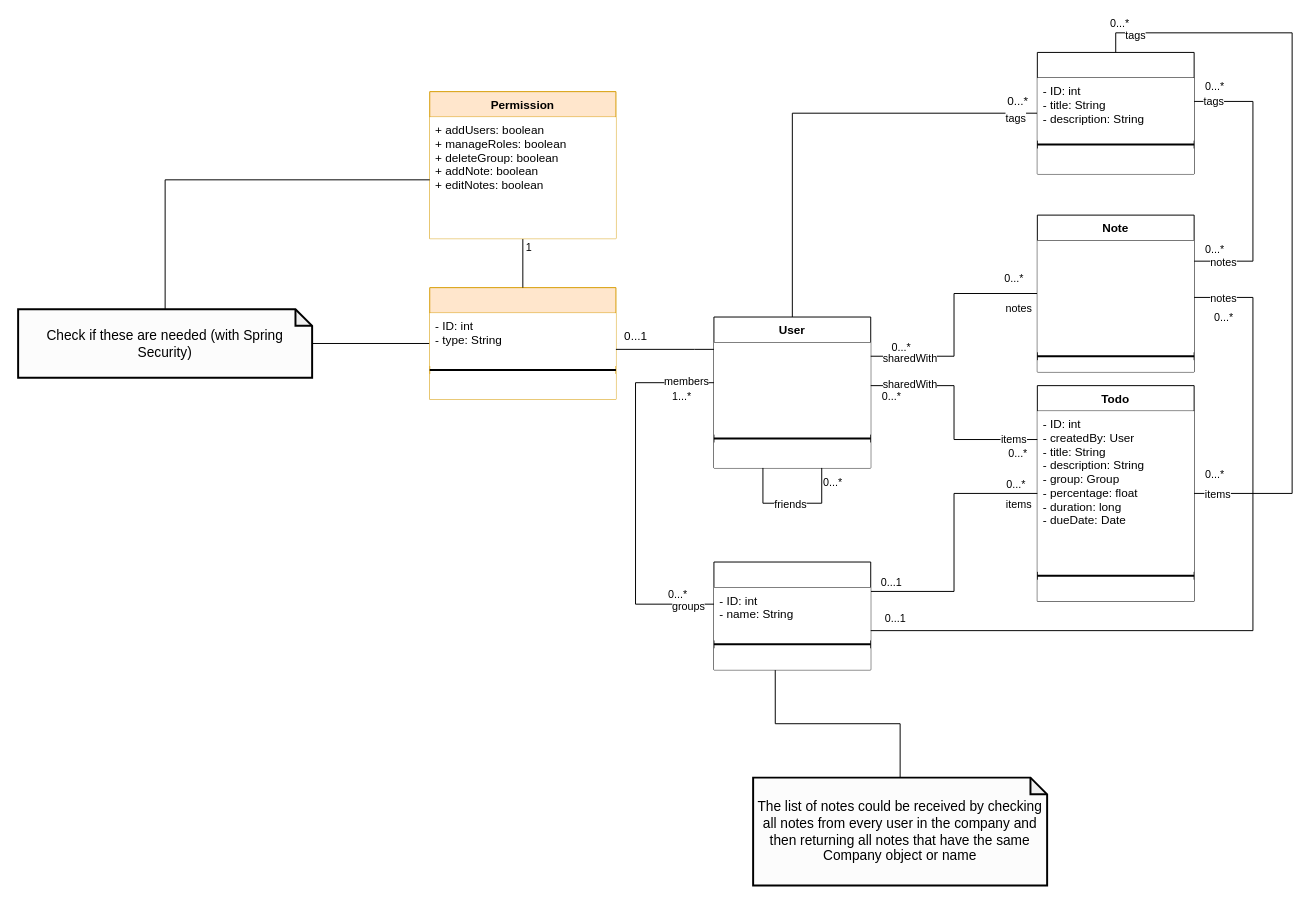
Image size: 1310x903. Some labels were removed from this diagram. The box of each missing label's shape, as (x1, y1, x2, y2) in pixels:
- ID: int - createdBy: User - title: String - description: String - group: Group: (1037, 240, 1194, 352)
- ID: int - name: String - email: String - password: String: (713, 342, 870, 434)
Group: (713, 561, 871, 670)
Role: (429, 287, 616, 399)
Tag: (1036, 51, 1194, 174)
